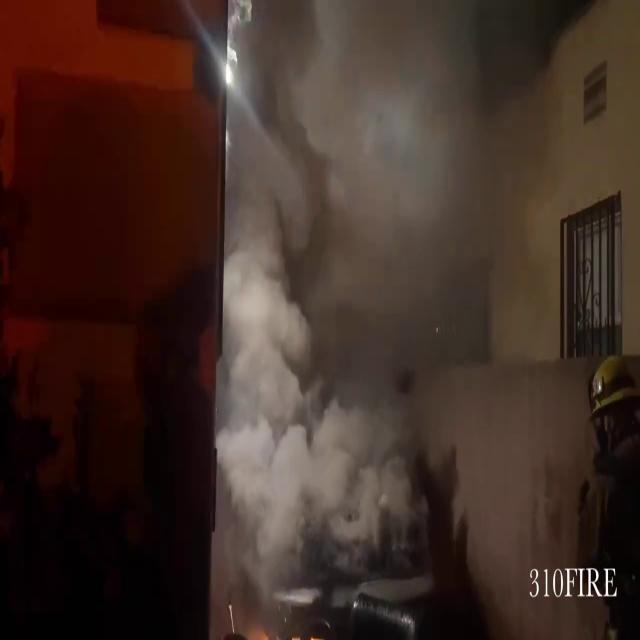Smoke: (209, 0, 592, 631)
